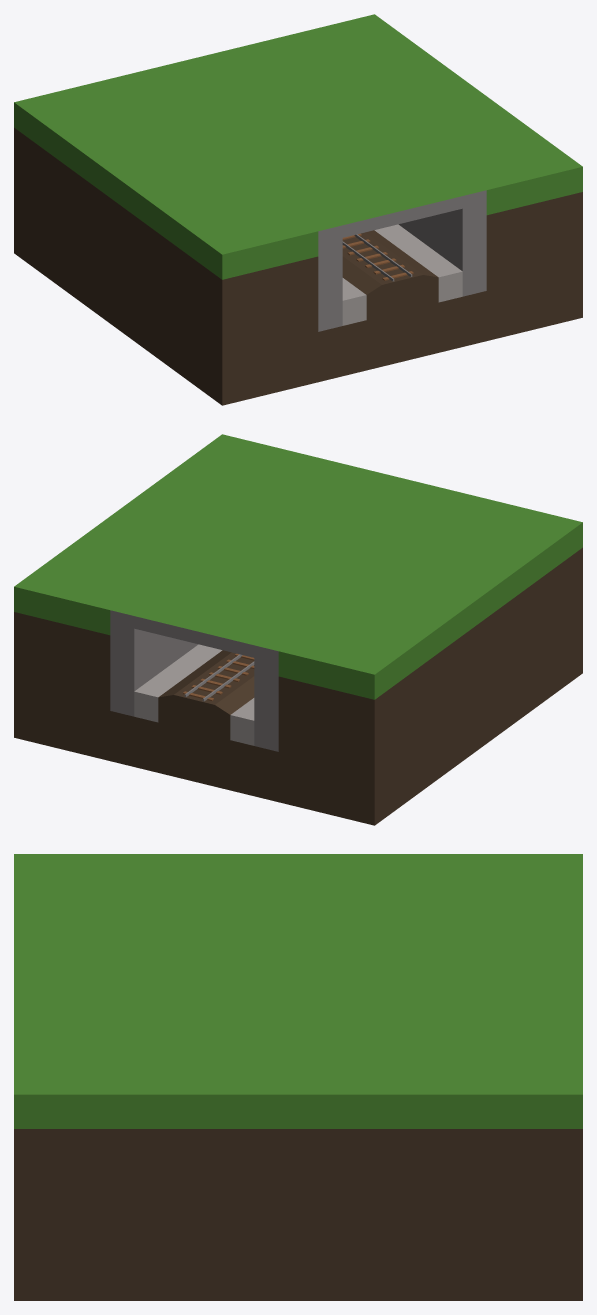
File: tile-rail-tunnel.fbx
3 renders of one model, top to bottom at view 1: azimuth 30°, elevation 25°; view 2: azimuth 150°, elevation 25°; view 3: azimuth 270°, elevation 25°, orthographic. The views are drawn at different scales.
Visible parts, largest first — view 1: tile-rail-tunnel; view 2: tile-rail-tunnel; view 3: tile-rail-tunnel.
Part boxes in pixels (bbox=[...]): tile-rail-tunnel: bbox=[14, 14, 582, 405]; tile-rail-tunnel: bbox=[14, 434, 582, 825]; tile-rail-tunnel: bbox=[14, 854, 582, 1300].
Bounding box in the file's own units: 30 × 12 × 30.
